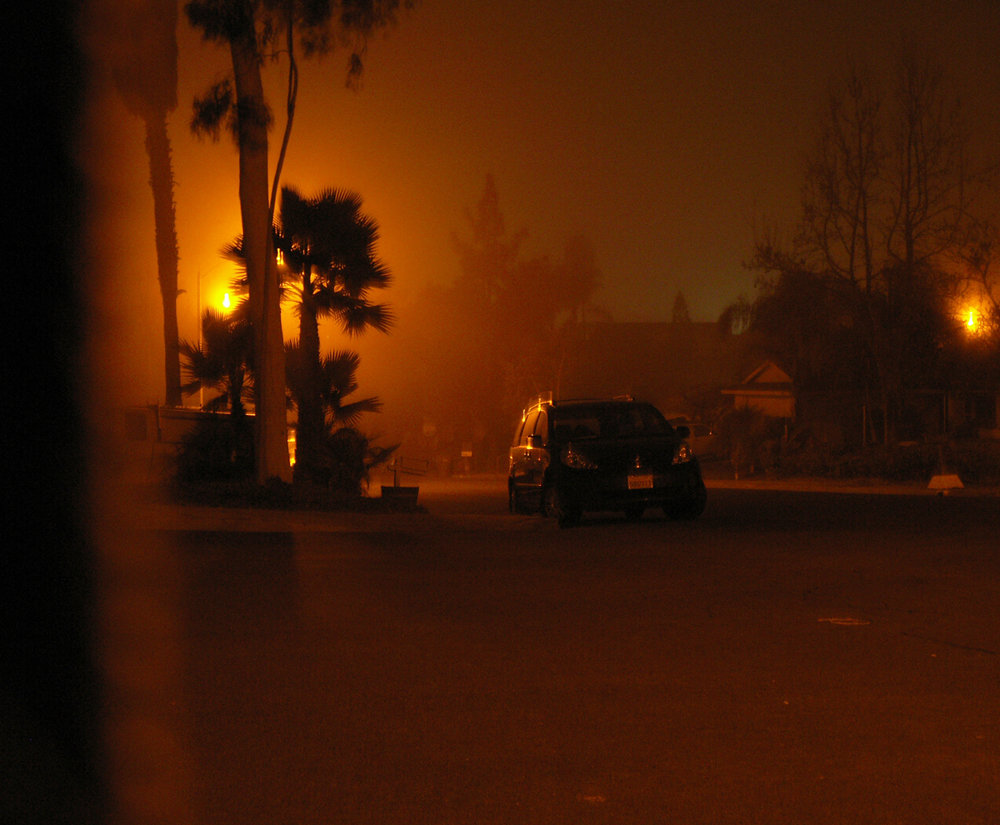car: (492, 385, 721, 536)
